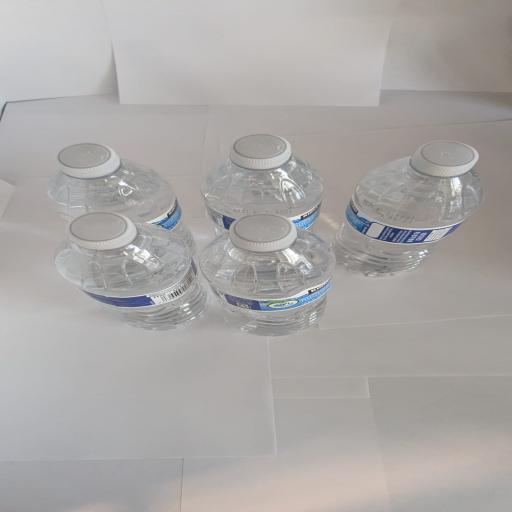waterbottle: (334, 142, 482, 276), (56, 213, 207, 330), (201, 214, 335, 335), (49, 144, 195, 253), (201, 135, 323, 234)
